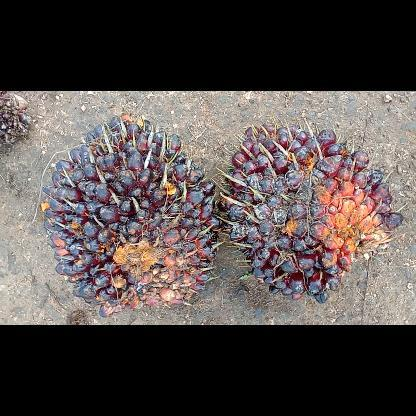Kurang masak: (42, 114, 228, 318), (216, 121, 404, 305)
